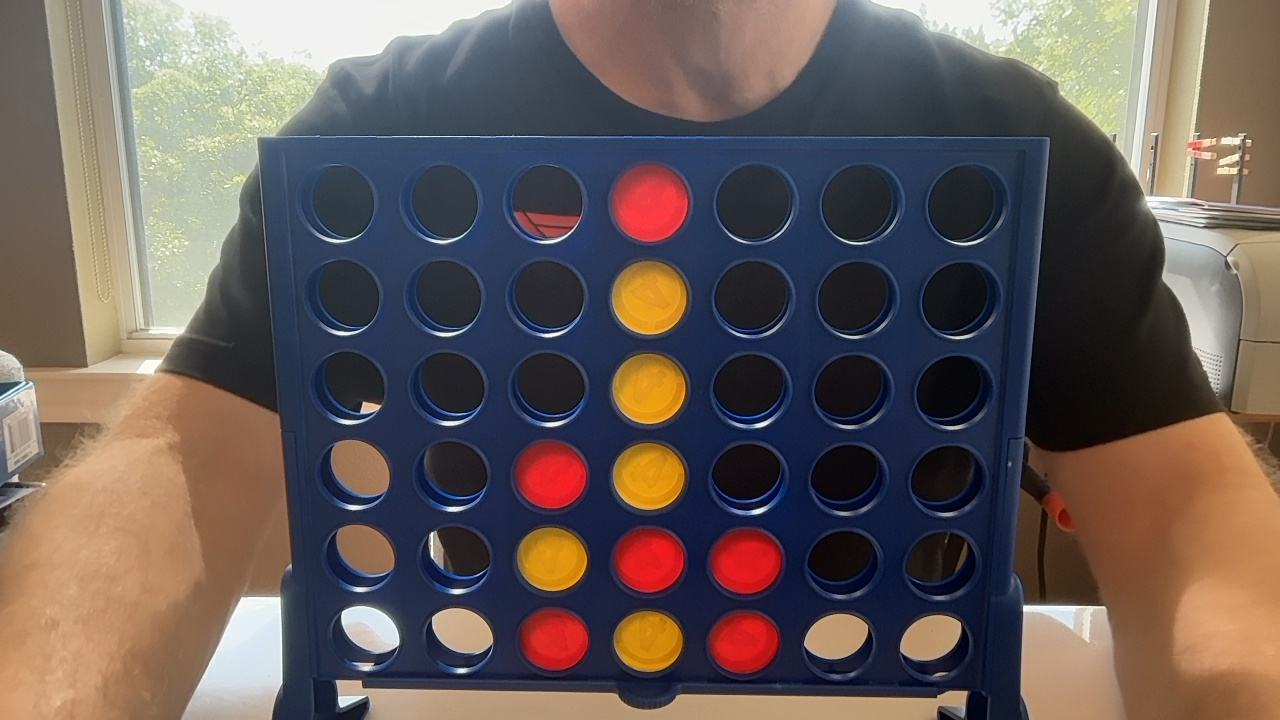red piece: (610, 163, 689, 241), (515, 441, 587, 509), (710, 528, 782, 594), (612, 528, 685, 593), (708, 611, 779, 675), (519, 608, 588, 671)
yellow piece: (612, 260, 688, 334), (612, 353, 686, 424), (613, 442, 686, 510), (517, 527, 587, 591), (614, 610, 683, 672)
